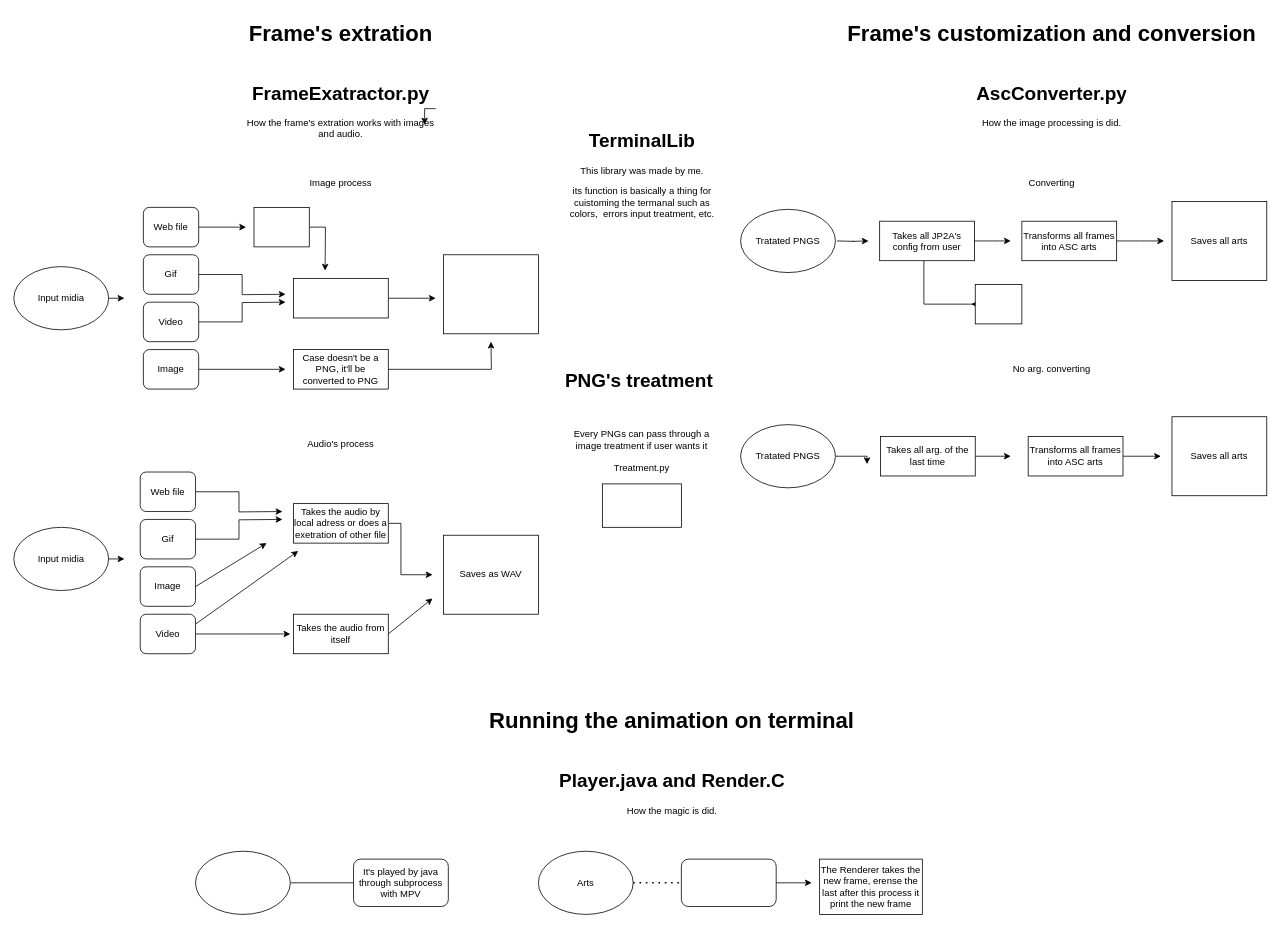
The diagram is 1281 pixels wide and 928 high, and some of its shapes have lost their labels. The box of each missing label's shape, as (x1, y1, x2, y2) in pixels:
Audio: (195, 850, 290, 914)
Does the download: (253, 207, 309, 247)
Image tratament with pillow: (602, 483, 681, 527)
Saves all config in a JSON file: (974, 284, 1022, 324)
Saves as PNG frames: (443, 254, 538, 334)
Takes the arts send to C and wait until the momment of the next frame to send it: (681, 858, 776, 907)
Transforms into PNG frames: (293, 278, 388, 318)
